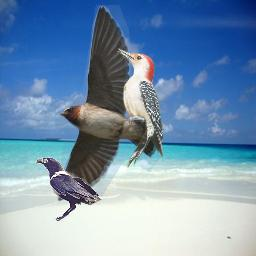Crow: (35, 157, 104, 221)
Swallow: (57, 5, 161, 202)
Woodpecker: (115, 48, 163, 168)
